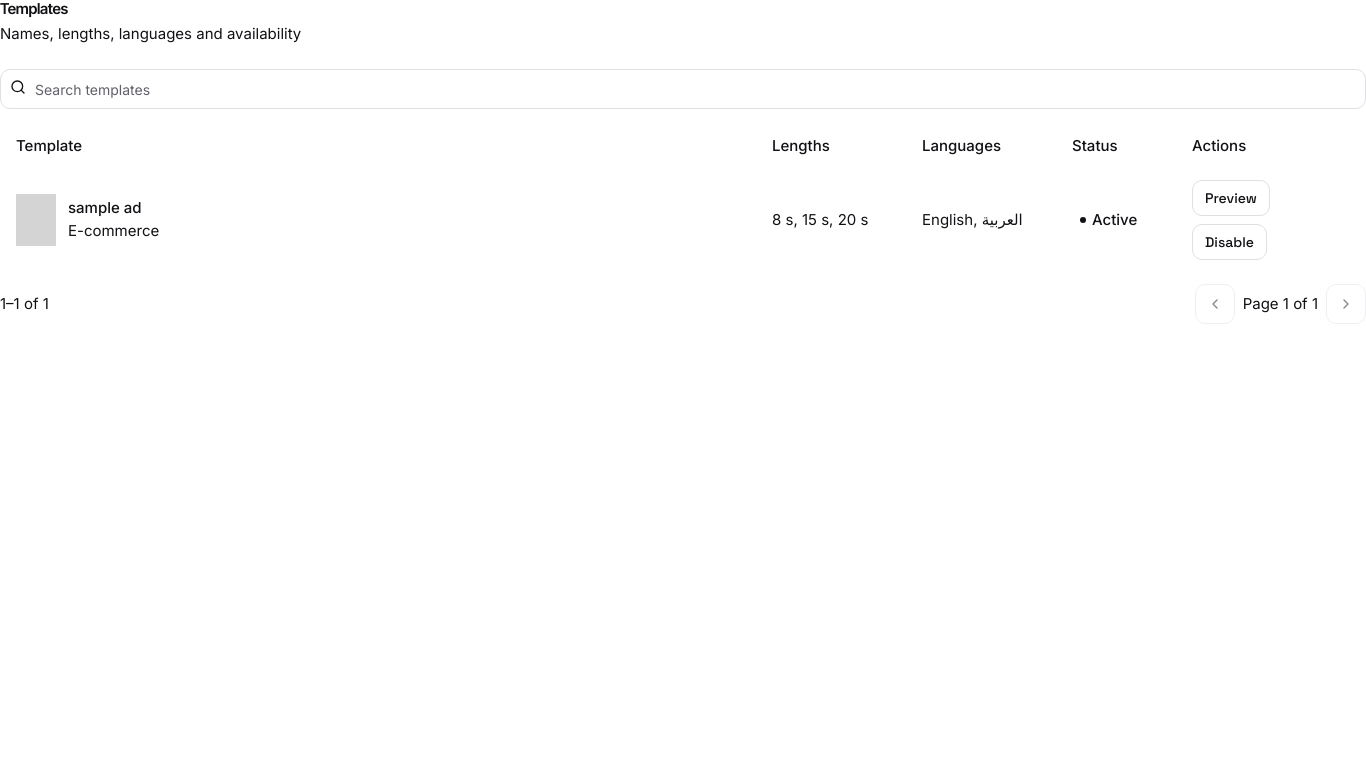
Test case: simple template availability › reuses the idempotency key after an uncertain failure and requires a deliberate retry
Later steps or results of the test are not shown.
Click the button with aria-label "Disable sample ad" at (1230,242), box [1192,224,1267,260]
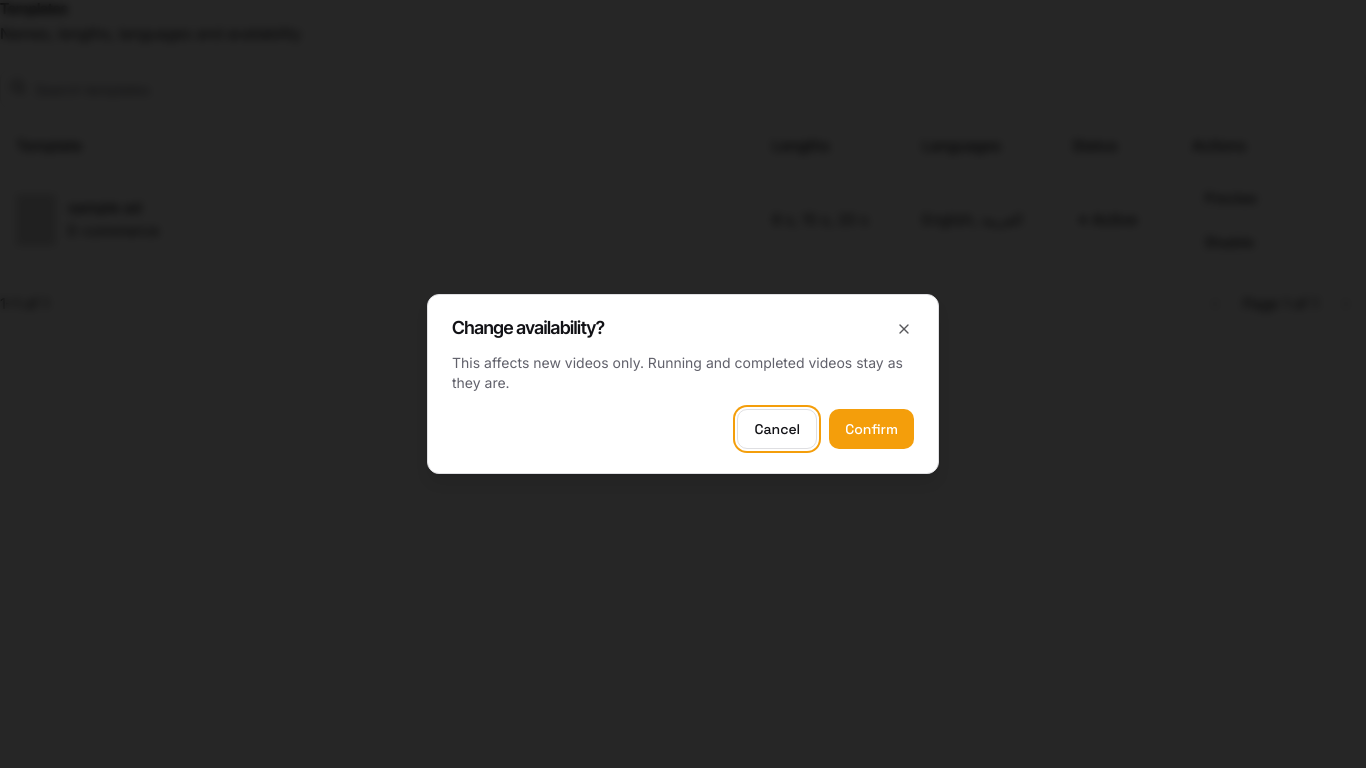
Click the button "Confirm" at (872,429), box [829,409,914,449]
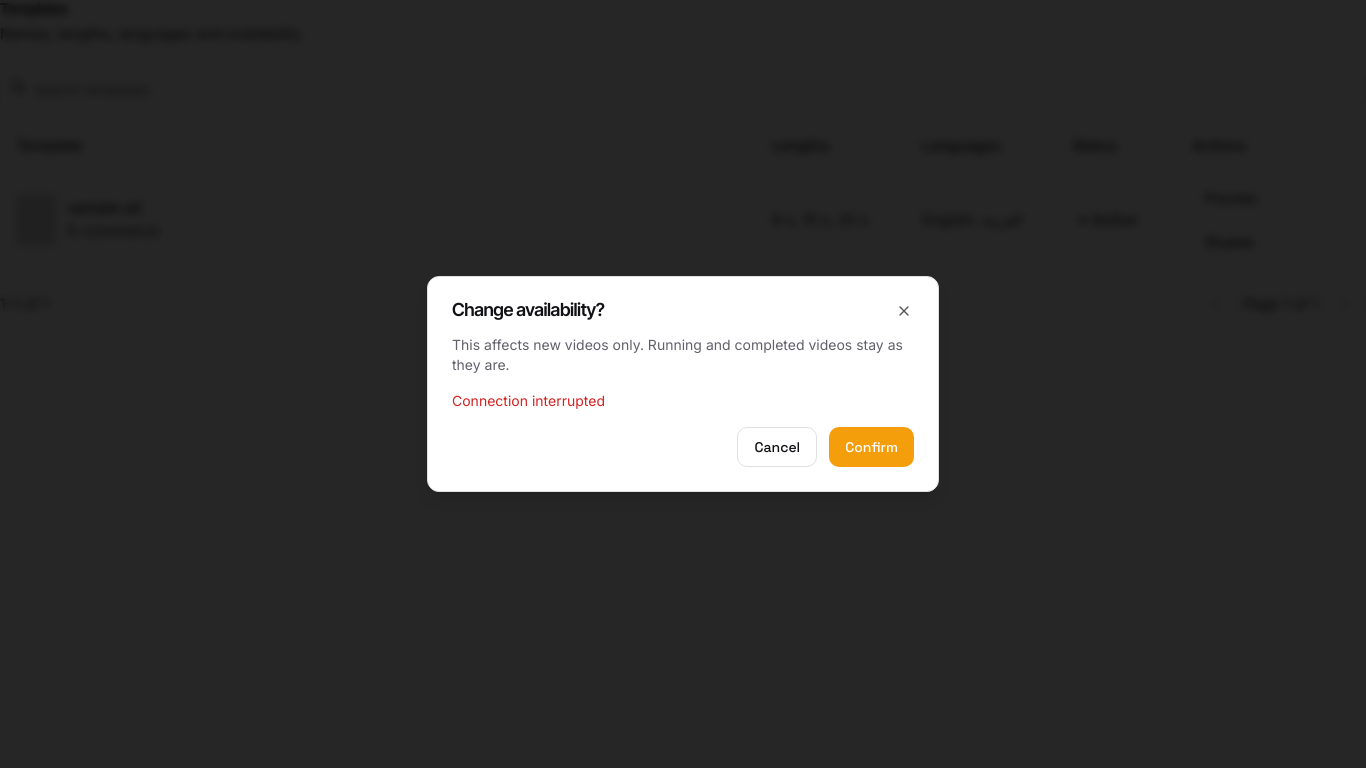
Expected: the text "Connection interrupted" is shown, [452,392,605,409]
